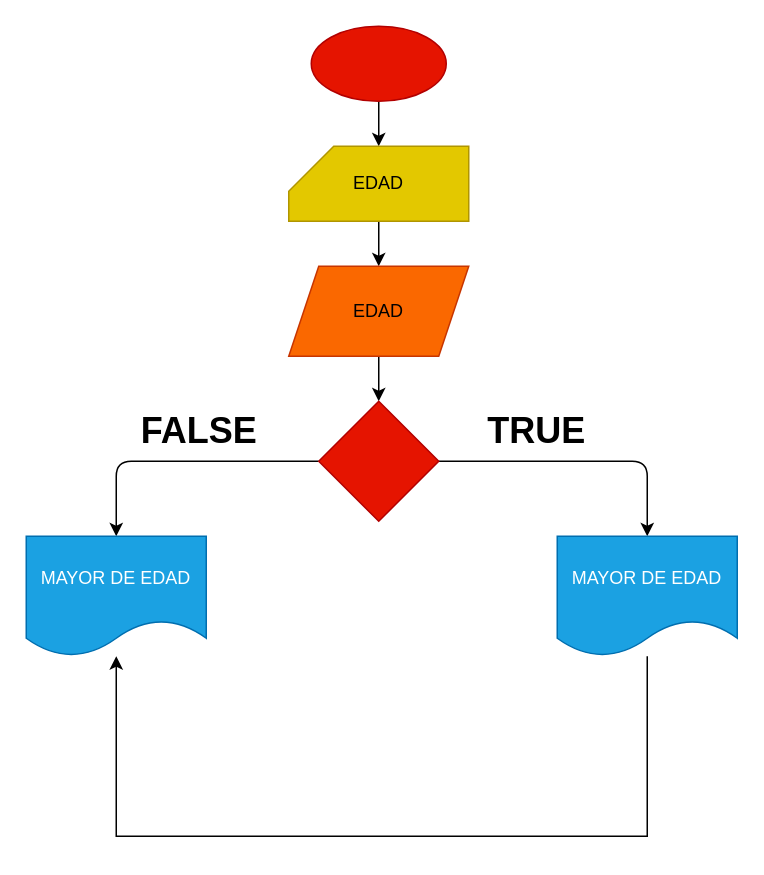
This 764x875 diagram has some shape labels left out. The centre of each missing label's shape, as x and y in pixels:
EDAD >=18: the point at 378,460
INICIO: the point at 378,63
